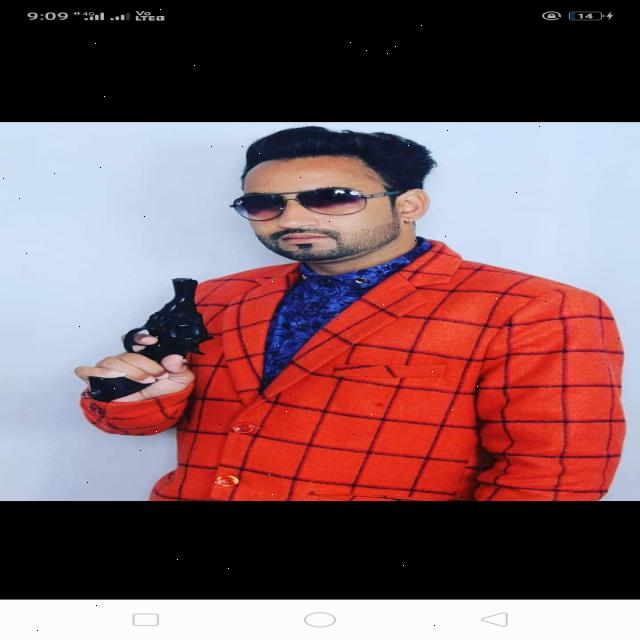gun: (73, 267, 233, 413)
